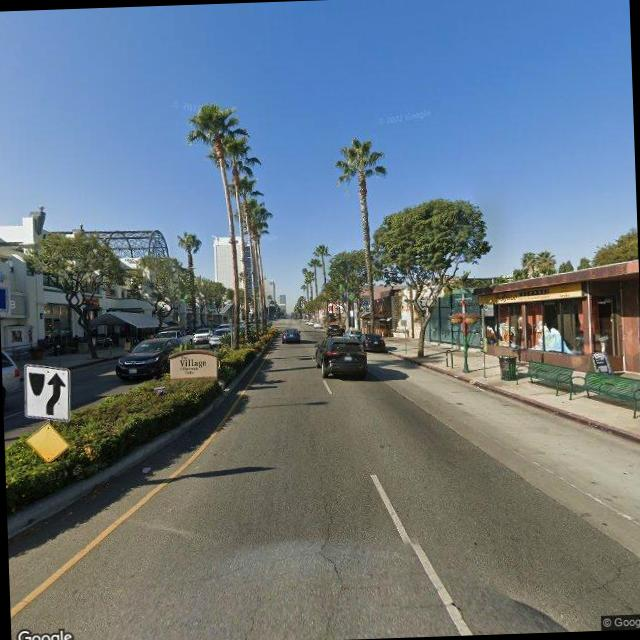crack: (135, 544, 313, 596), (310, 484, 346, 594), (583, 555, 640, 590)
